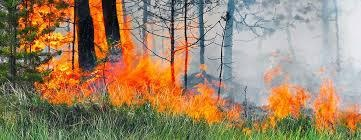fire: (23, 0, 282, 128)
